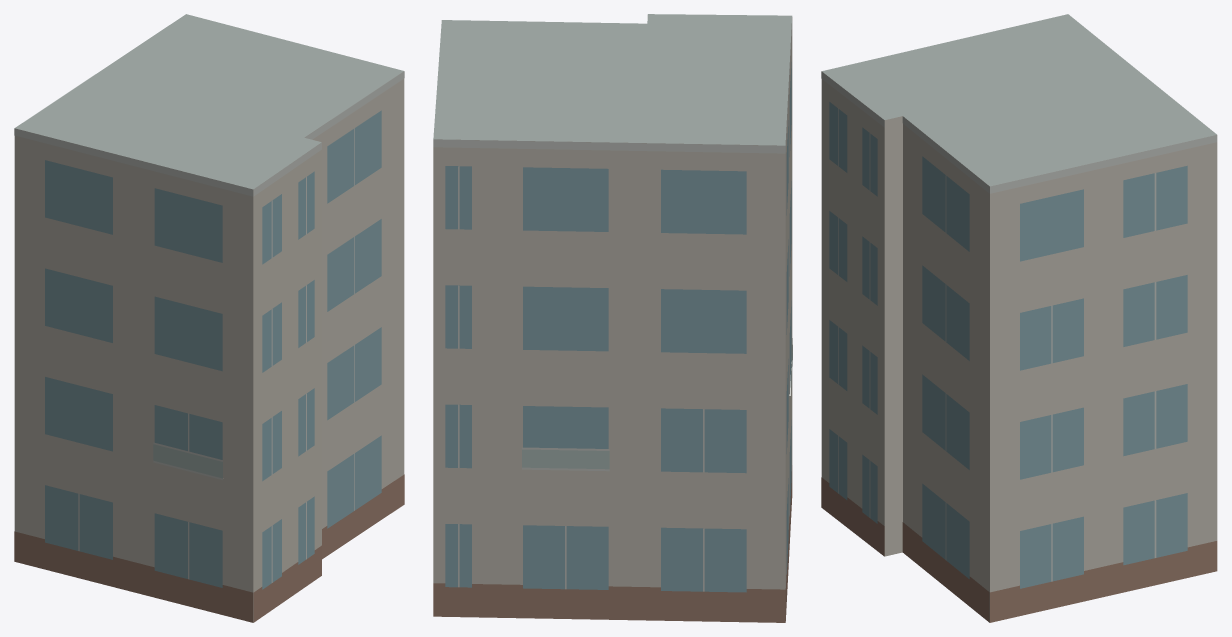
Rendered from survey-upis-33046049.glb.
3 renders of one model, left to right at view 1: azimuth 30°, elevation 25°; view 2: azimuth 150°, elevation 25°; view 3: azimuth 270°, elevation 25°, orthographic. The views are drawn at different scales.
Parts seen in each view (by area): view 1: survey-upis-33046049.tmp; view 2: survey-upis-33046049.tmp; view 3: survey-upis-33046049.tmp.
Boxes of the visible parts, bbox=[...] form: survey-upis-33046049.tmp: bbox=[14, 14, 404, 622]; survey-upis-33046049.tmp: bbox=[433, 14, 792, 622]; survey-upis-33046049.tmp: bbox=[821, 14, 1217, 622].
Size of the model in its own units: 12.3 by 14.5 by 11.93.
